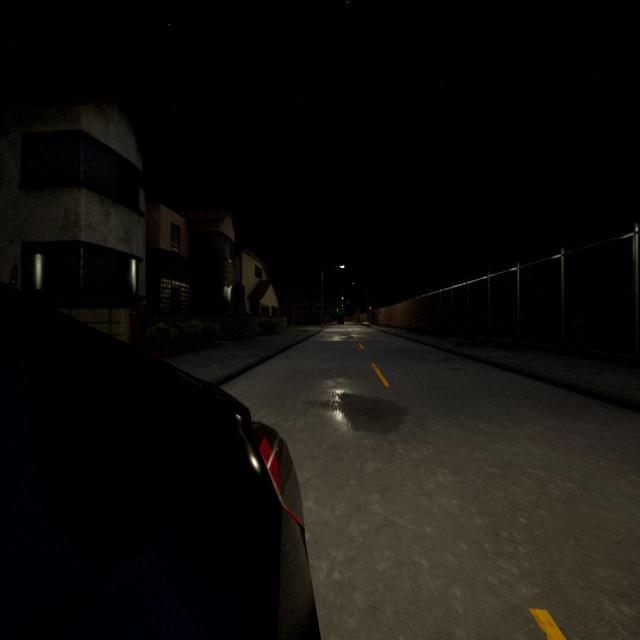Vehicle: (0, 284, 320, 637), (336, 314, 345, 326)
traffic_light: (369, 305, 372, 313)
